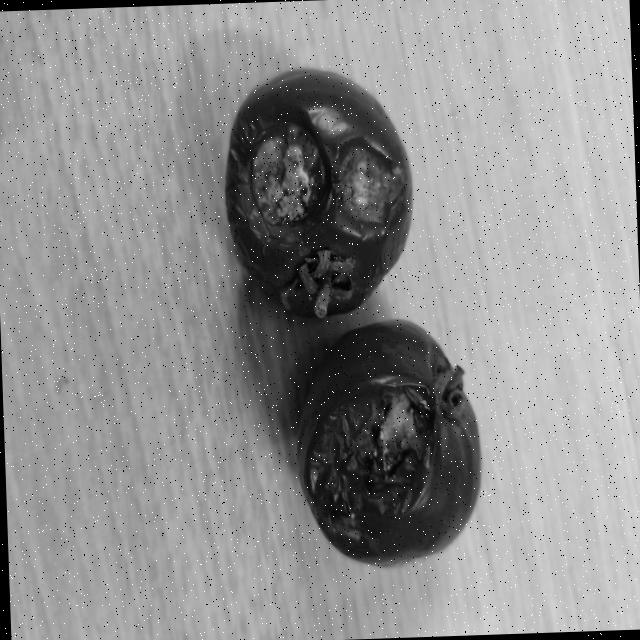Rotten: (222, 65, 416, 328), (291, 314, 486, 570)
